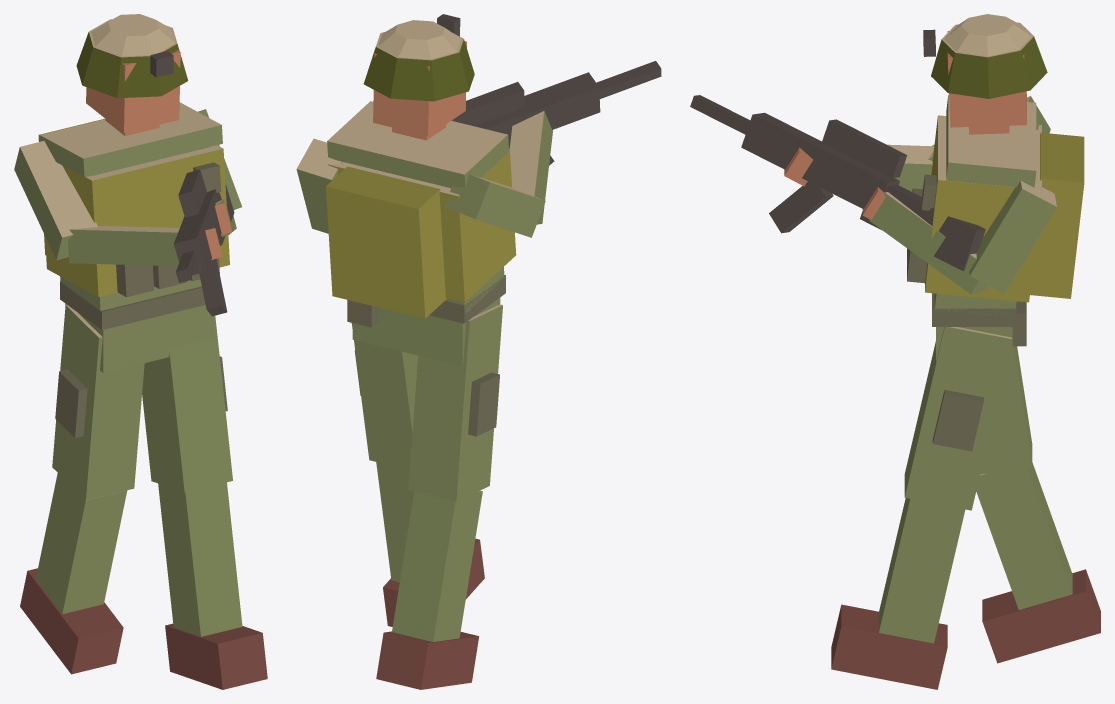
Rendered from SM_SoldadoArmado_v0_G36E_Apuntando_LOD0.fbx.
3 renders of one model, left to right at view 1: azimuth 30°, elevation 25°; view 2: azimuth 150°, elevation 25°; view 3: azimuth 270°, elevation 25°, orthographic.
Parts seen in each view (by area): view 1: SM_bloques.soldado_armado_v0_LOD0; view 2: SM_bloques.soldado_armado_v0_LOD0; view 3: SM_bloques.soldado_armado_v0_LOD0.
Part boxes in pixels (x1,y1,x2,y2): SM_bloques.soldado_armado_v0_LOD0: (14,14,267,689); SM_bloques.soldado_armado_v0_LOD0: (296,14,661,689); SM_bloques.soldado_armado_v0_LOD0: (690,14,1100,689).
Size of the model in its own units: 0.5789 by 1.77 by 1.02.
